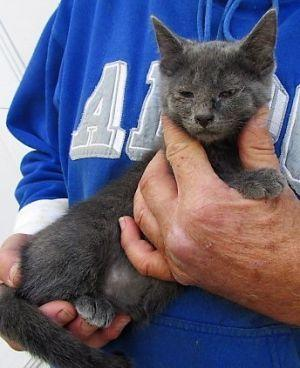rblue: (147, 3, 282, 153)
